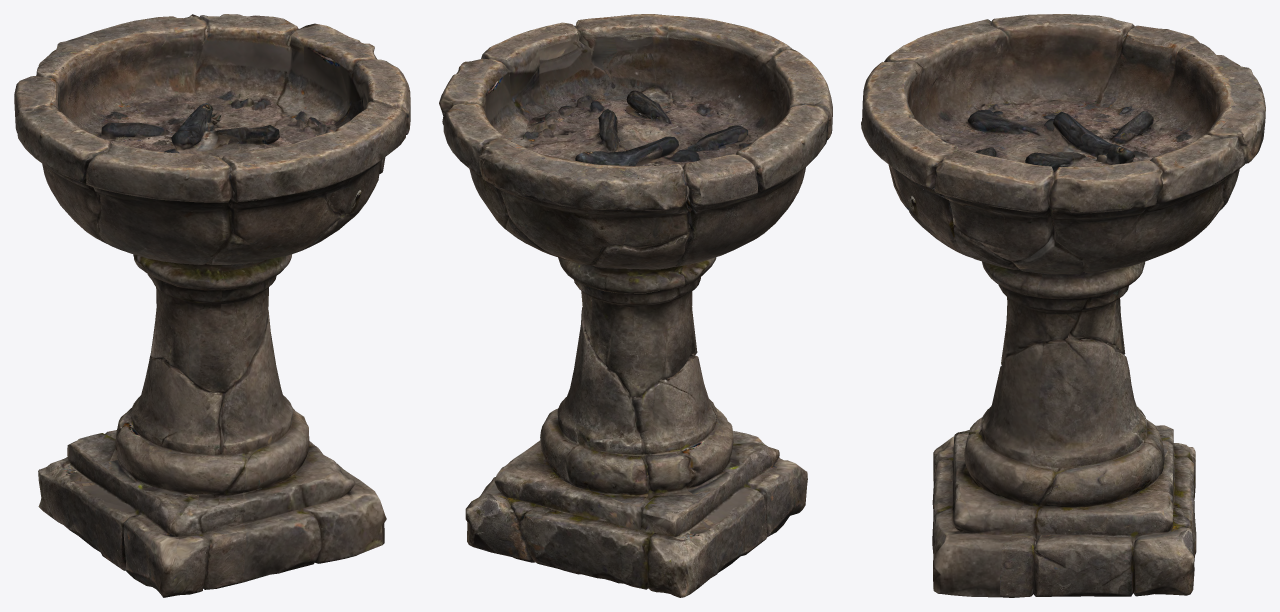
Rendered from Dungeon_lamp.glb.
The picture shows the model from 3 angles, left to right: view 1: azimuth 30°, elevation 25°; view 2: azimuth 150°, elevation 25°; view 3: azimuth 270°, elevation 25°; orthographic projection. The views are drawn at different scales.
Parts seen in each view (by area): view 1: YVO3D.obj; view 2: YVO3D.obj; view 3: YVO3D.obj.
Boxes of the visible parts, x1=… form: YVO3D.obj: x1=14, y1=14, x2=410, y2=597; YVO3D.obj: x1=439, y1=14, x2=832, y2=597; YVO3D.obj: x1=861, y1=14, x2=1265, y2=597.
Bounding box in the file's own units: 0.7891 × 0.9789 × 0.7906.
Materials: 1 (1 with a texture image).
